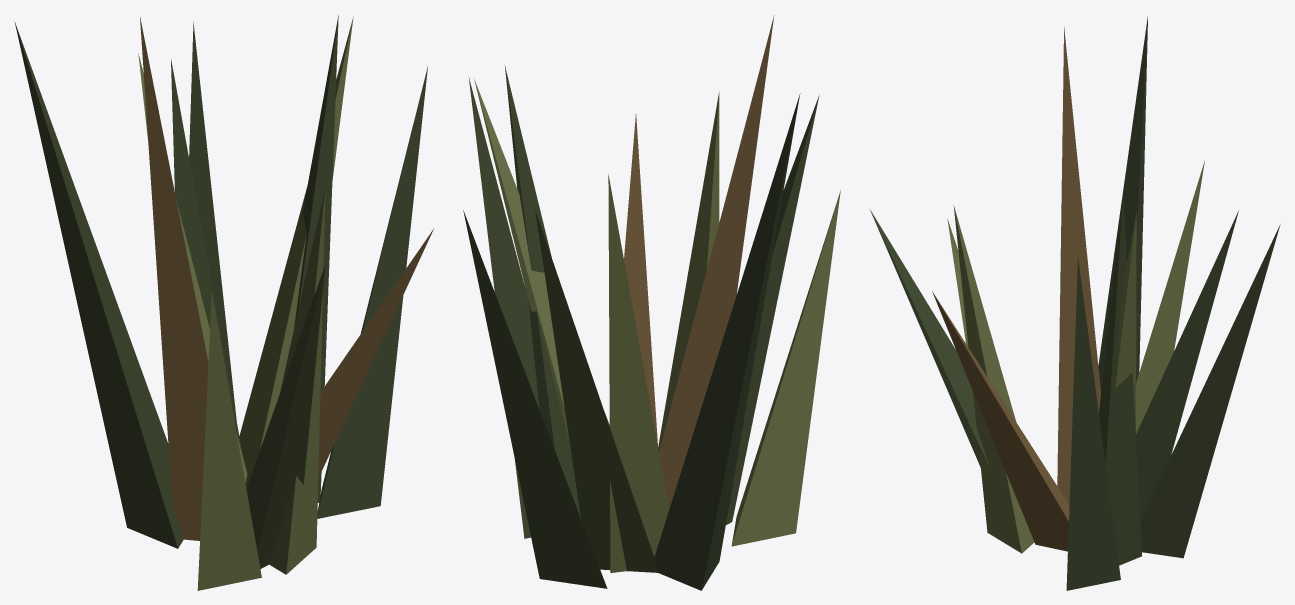
File: grass_tuft.glb
The picture shows the model from 3 angles, left to right: view 1: azimuth 30°, elevation 25°; view 2: azimuth 150°, elevation 25°; view 3: azimuth 270°, elevation 25°; orthographic projection. The views are drawn at different scales.
Parts seen in each view (by area): view 1: grass_tuft; view 2: grass_tuft; view 3: grass_tuft.
Part boxes in pixels (x1,y1,x2,y2): grass_tuft: [15, 15, 433, 590]; grass_tuft: [463, 15, 840, 590]; grass_tuft: [870, 16, 1280, 590].
Size of the model in its own units: 0.2292 by 0.3242 by 0.26.
